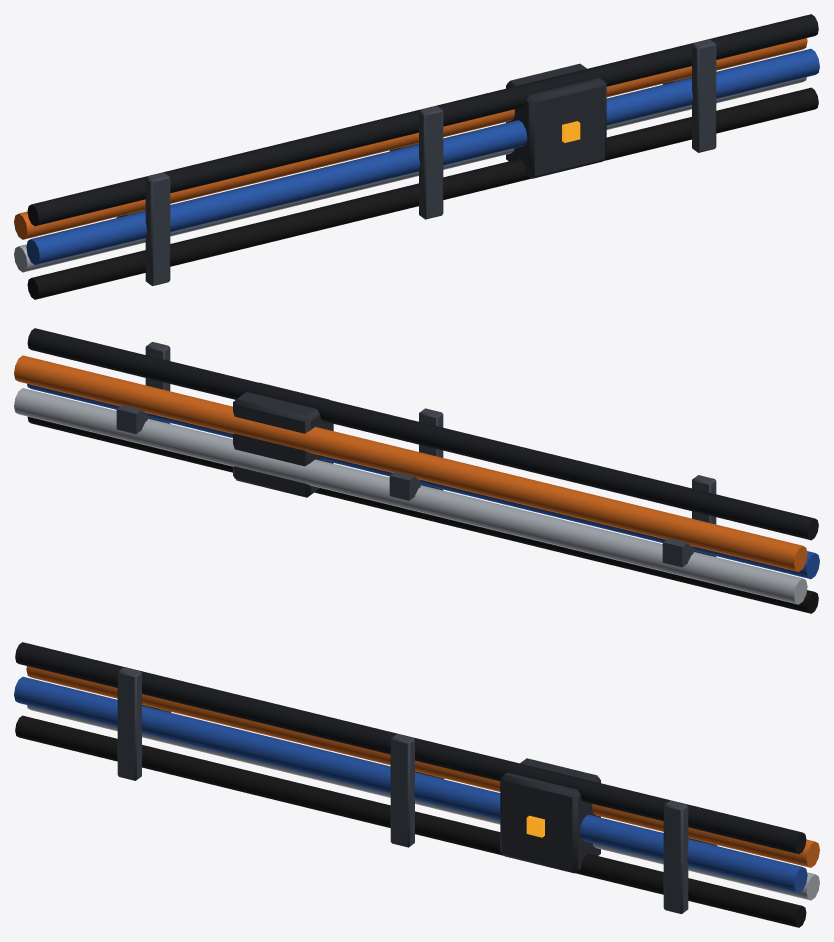
The model's file is cabletray_conduit_bundle.glb.
3 views of the same model, one above another, from view 1: azimuth 30°, elevation 25°; view 2: azimuth 150°, elevation 25°; view 3: azimuth 330°, elevation 25° (orthographic).
Parts seen in each view (by area): view 1: cabletray_conduit_bundle; view 2: cabletray_conduit_bundle; view 3: cabletray_conduit_bundle.
Boxes of the visible parts, x1=… form: cabletray_conduit_bundle: x1=14, y1=14, x2=819, y2=299; cabletray_conduit_bundle: x1=14, y1=328, x2=819, y2=613; cabletray_conduit_bundle: x1=14, y1=642, x2=819, y2=927.
Size of the model in its own units: 2 by 0.26 by 0.162.
